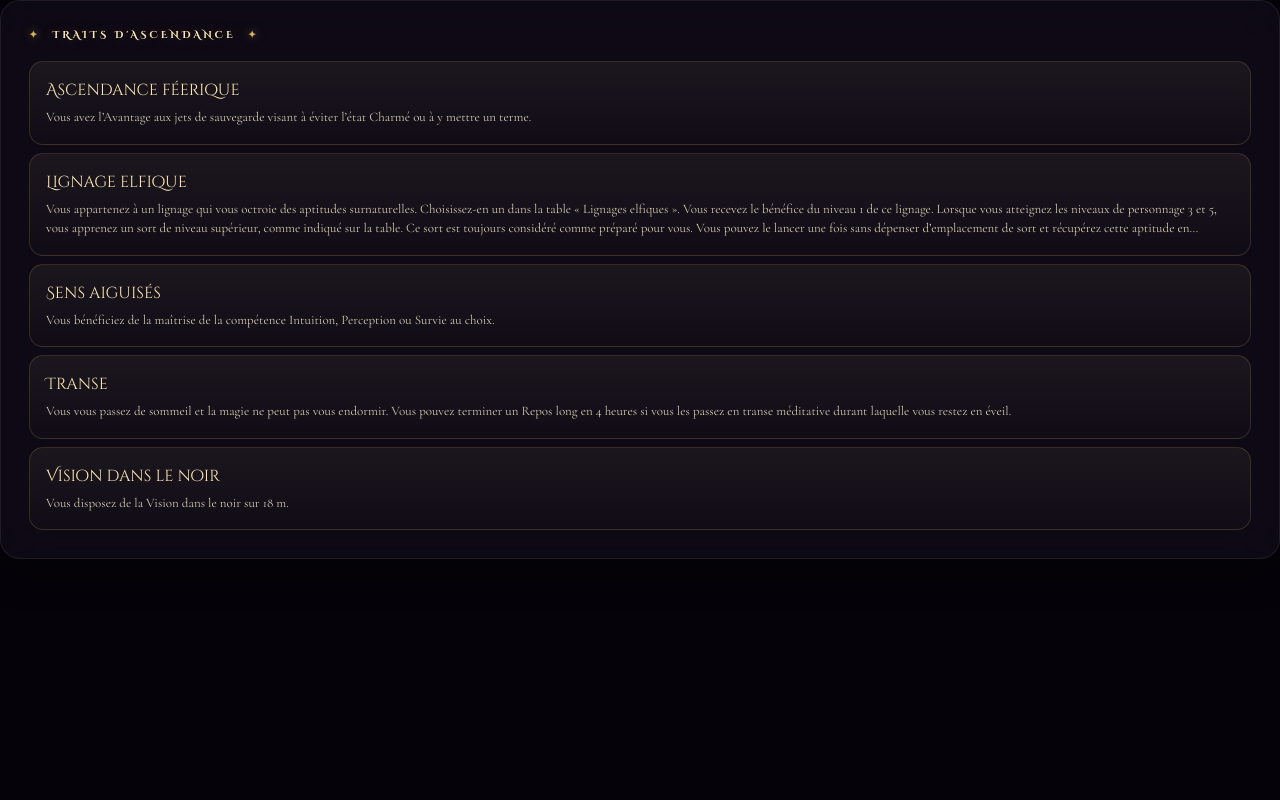
Test: <AncestryTraitsCard> › Vision dans le noir : la description exacte du bundle est surfacée
The image size is (1280, 800).
Step 1. Click the button with aria-label "Trait : Vision dans le noir" → (133, 476), box [29,446,1251,530]
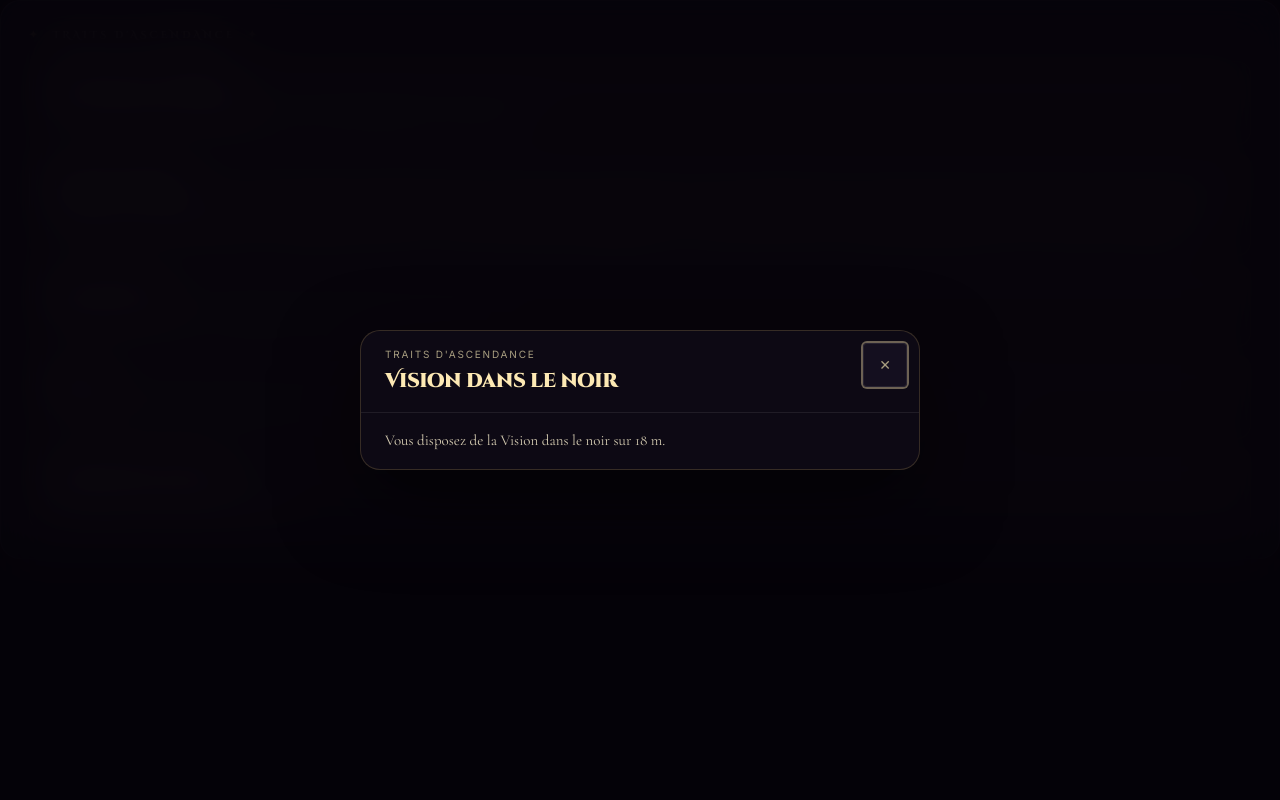
Expected: the dialog is shown
